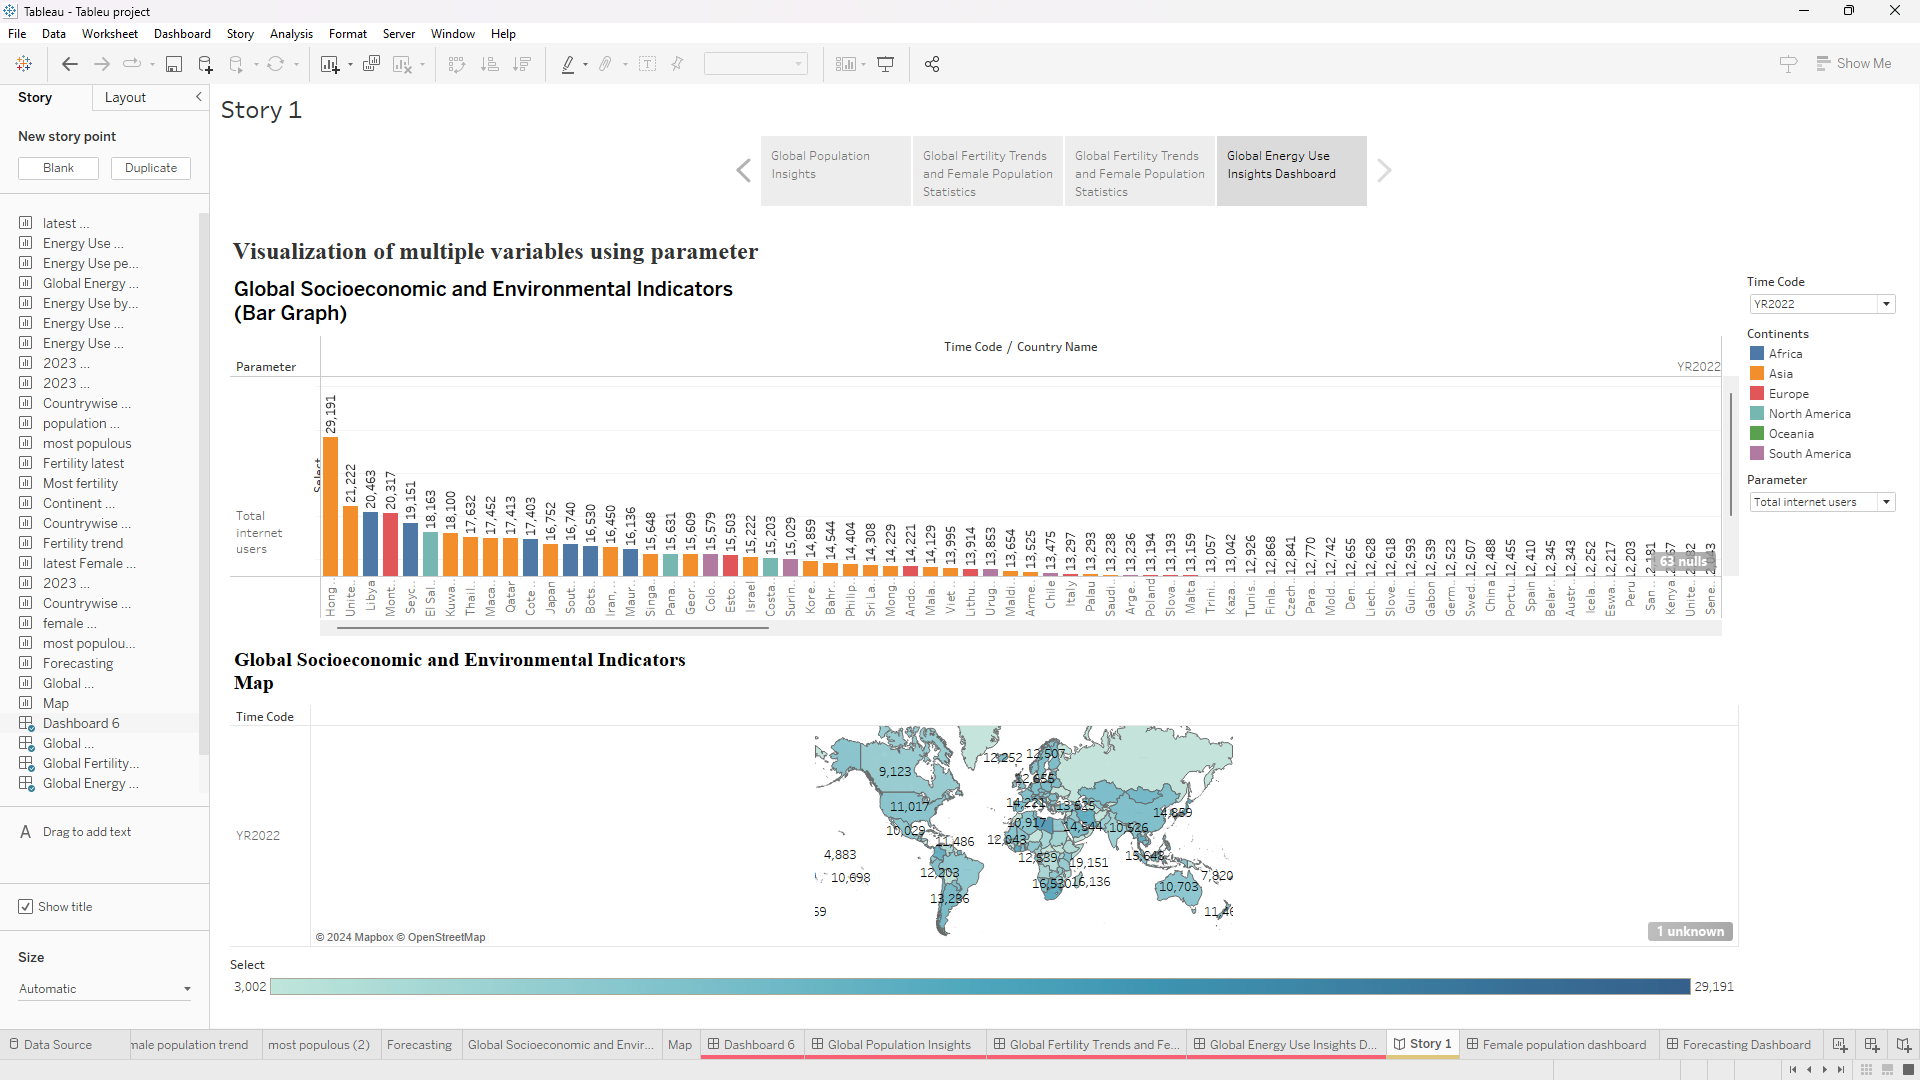

What the dashboard file says about the page in this screenshot:
{"tool":"tableau","page":{"name":"Dashboard 6","canvas":[1000,1000],"units":"permille","ordinal":0},"visuals":[{"type":"title","box":[4.7,8.5,990.6,37.1]},{"type":"worksheet","title":"Global Socioeconomic and Environmental Indicators","mark":"Automatic","rows":["Calculation_1931762768567951360"],"cols":["Time Code","Country Name"],"box":[4.7,45.5,897,473]},{"type":"filter","title":"Global Socioeconomic and Environmental Indicators","param":"[federated.0u96f6y1uy6if2102a24o0p1i3m1].[none:Time Code:nk]","box":[901.7,45.5,93.6,55.1]},{"type":"legend","title":"Global Socioeconomic and Environmental Indicators","param":"[federated.0u96f6y1uy6if2102a24o0p1i3m1].[none:Continents:nk]","box":[901.7,100.6,93.6,154.7]},{"type":"parameter","param":"[Parameters].[Parameter 1]","box":[901.7,255.3,93.6,55.1]},{"type":"worksheet","title":"Map","mark":"Automatic","rows":["Time Code"],"box":[4.7,518.5,897,396.6]},{"type":"legend","title":"Map","param":"[federated.0u96f6y1uy6if2102a24o0p1i3m1].[sum:Calculation_1931762768567951360:qk","box":[4.7,915.1,897,76.5]}]}

Visuals, with their boxes on the dashboard's canvas, which has no fixed pixel size, in thousandths of its width and height (x1, y1, x2, y2). These are canvas units, not pixel positions in the 1920x1080 screenshot, which may show the page scaled, cropped or inside an application window:
title: pyautogui.locateOnScreen(5, 8, 995, 46)
"Global Socioeconomic and Environmental Indicators" worksheet: pyautogui.locateOnScreen(5, 46, 902, 518)
"Global Socioeconomic and Environmental Indicators" filter: pyautogui.locateOnScreen(902, 46, 995, 101)
"Global Socioeconomic and Environmental Indicators" legend: pyautogui.locateOnScreen(902, 101, 995, 255)
parameter: pyautogui.locateOnScreen(902, 255, 995, 310)
"Map" worksheet: pyautogui.locateOnScreen(5, 518, 902, 915)
"Map" legend: pyautogui.locateOnScreen(5, 915, 902, 992)
